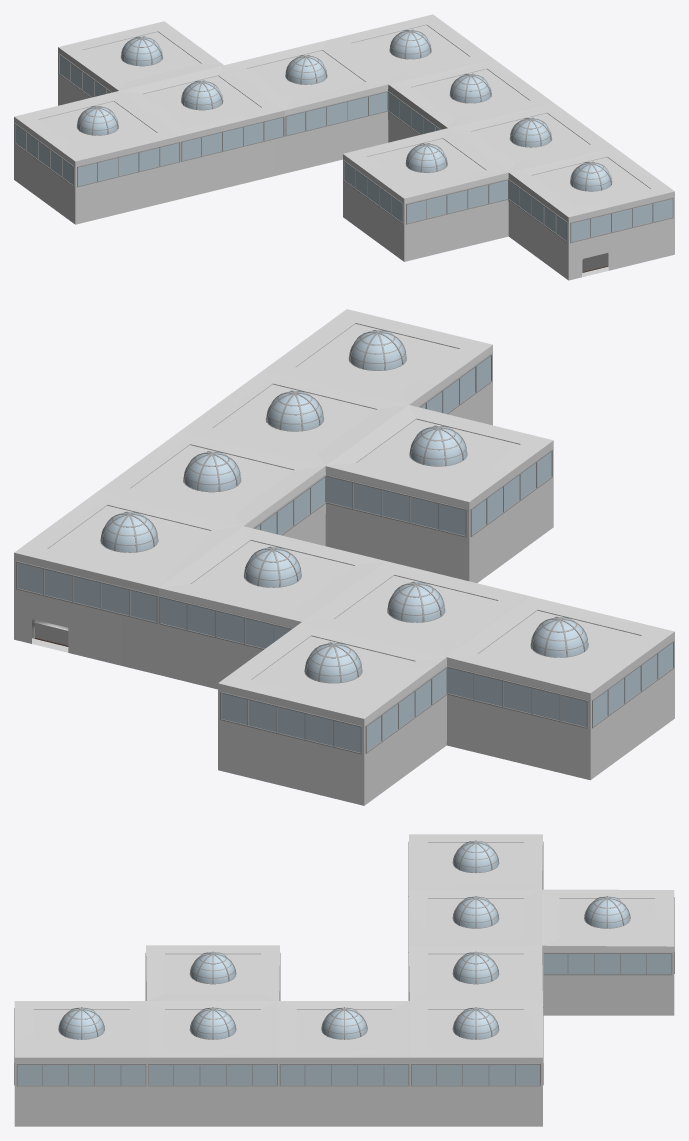
File: wall_edited.fbx
3 views of the same model, one above another, from view 1: azimuth 30°, elevation 25°; view 2: azimuth 150°, elevation 25°; view 3: azimuth 270°, elevation 25° (orthographic). The views are drawn at different scales.
Parts seen in each view (by area): view 1: wall_2, ceiling, windows, sphere.007, sphere, sphere.005, sphere.004, sphere.001, sphere.008, sphere.006, sphere.003, sphere.002; view 2: wall_2, ceiling, windows, sphere.008, sphere.007, sphere.001, sphere.006, sphere.005, sphere.002, sphere.004, sphere.003, sphere; view 3: wall_2, ceiling, windows, sphere.006, sphere.004, sphere.001, sphere.008, sphere.007, sphere, sphere.003, sphere.002, sphere.005.
Boxes of the visible parts, <box> form: wall_2: <box>14,14,674,280</box>; ceiling: <box>39,25,649,207</box>; windows: <box>14,54,673,243</box>; sphere.007: <box>120,36,162,66</box>; sphere: <box>570,161,612,191</box>; sphere.005: <box>76,106,118,135</box>; sphere.004: <box>181,80,223,110</box>; sphere.001: <box>509,117,552,147</box>; sphere.008: <box>449,73,491,103</box>; sphere.006: <box>389,29,431,59</box>; sphere.003: <box>285,55,327,84</box>; sphere.002: <box>405,143,447,172</box>; wall_2: <box>14,309,674,805</box>; ceiling: <box>48,324,640,704</box>; windows: <box>16,353,674,754</box>; sphere.008: <box>183,451,241,492</box>; sphere.007: <box>304,642,362,683</box>; sphere.001: <box>265,390,324,431</box>; sphere.006: <box>100,511,158,552</box>; sphere.005: <box>530,616,588,657</box>; sphere.002: <box>409,425,467,466</box>; sphere.004: <box>387,581,445,622</box>; sphere.003: <box>243,546,301,587</box>; sphere: <box>348,330,406,370</box>; wall_2: <box>14,834,674,1126</box>; ceiling: <box>33,843,655,1049</box>; windows: <box>14,841,674,1086</box>; sphere.006: <box>452,1007,499,1039</box>; sphere.004: <box>452,896,499,928</box>; sphere.001: <box>189,1007,236,1039</box>; sphere.008: <box>321,1007,367,1039</box>; sphere.007: <box>584,896,630,928</box>; sphere: <box>58,1007,104,1039</box>; sphere.003: <box>452,951,499,984</box>; sphere.002: <box>189,951,236,984</box>; sphere.005: <box>452,840,499,873</box>.
Size of the model in its own units: 4029 by 753 by 5029.
